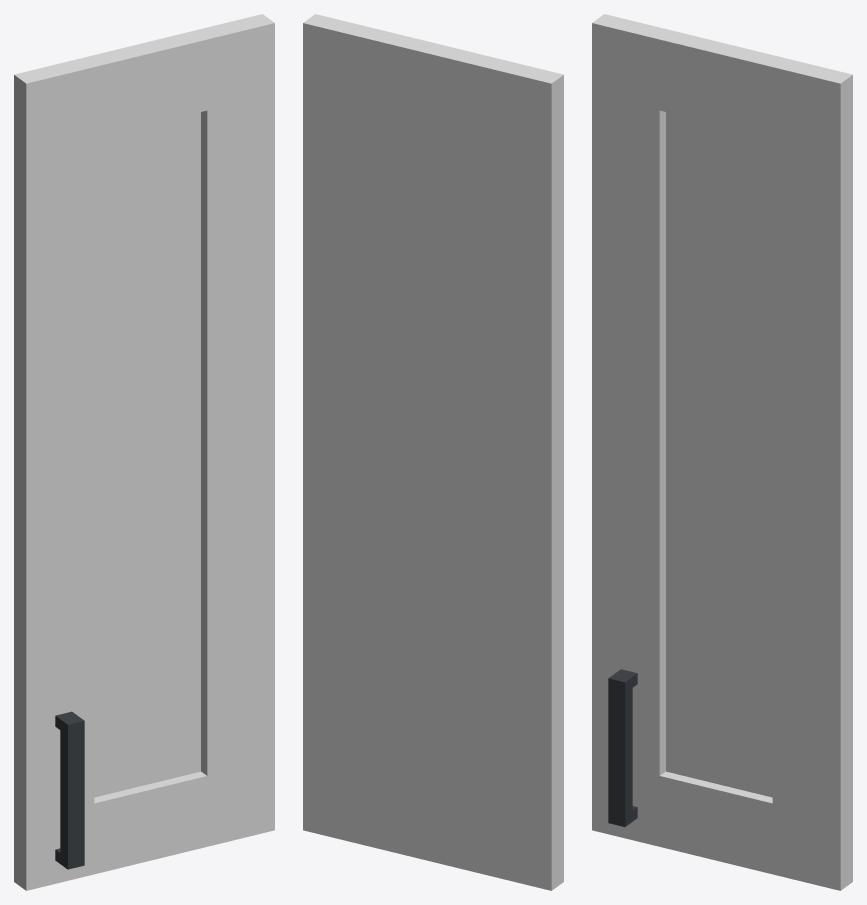
Rendered from Door2_C1_13.fbx.
3 views of the same model, side by side, from view 1: azimuth 30°, elevation 25°; view 2: azimuth 150°, elevation 25°; view 3: azimuth 330°, elevation 25° (orthographic).
Visible parts, largest first — view 1: Door2_C1_13; view 2: Door2_C1_13; view 3: Door2_C1_13.
Part boxes in pixels (bbox=[...]): Door2_C1_13: bbox=[14, 14, 274, 890]; Door2_C1_13: bbox=[303, 14, 563, 890]; Door2_C1_13: bbox=[592, 14, 852, 890].
Size of the model in its own units: 29 by 90 by 5.03.
